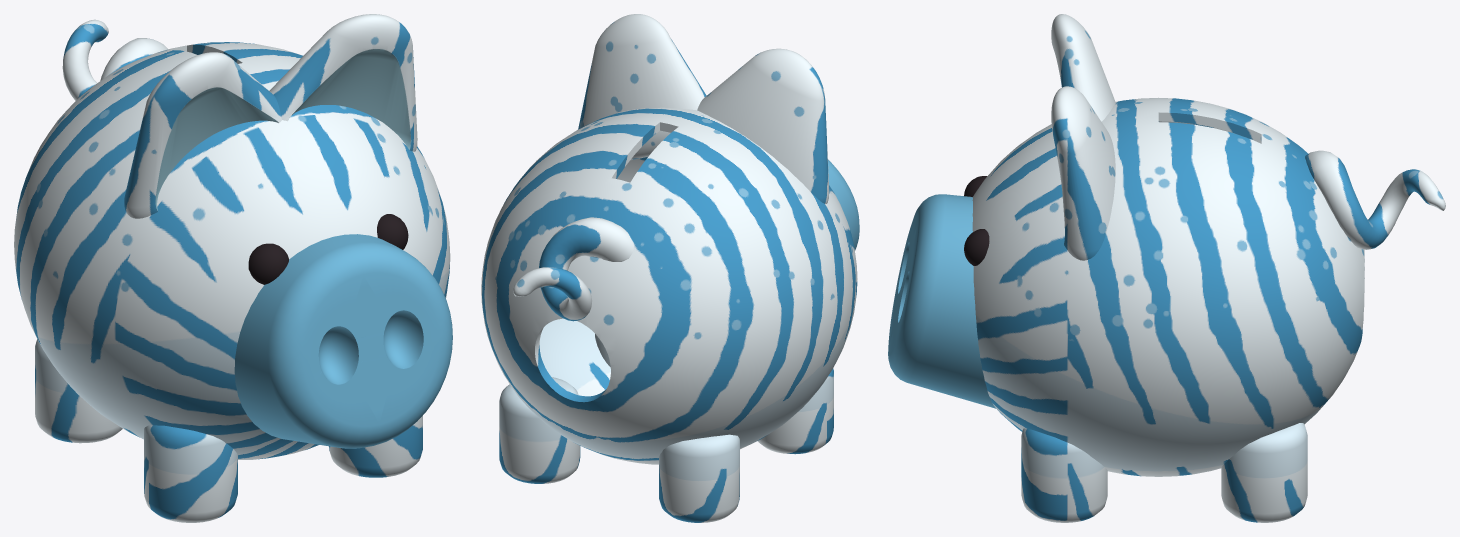
The model's file is glacier-complete.fbx.
The picture shows the model from 3 angles, left to right: view 1: azimuth 30°, elevation 25°; view 2: azimuth 150°, elevation 25°; view 3: azimuth 270°, elevation 25°; orthographic projection. The views are drawn at different scales.
Parts seen in each view (by area): view 1: Body, Snout, Ears, Legs, Tail, Eyes; view 2: Body, Ears, Legs, Tail, Snout; view 3: Body, Snout, Legs, Ears, Tail, Eyes.
Part boxes in pixels (bbox=[...]): Body: bbox=[14, 42, 450, 459]; Snout: bbox=[234, 234, 452, 448]; Ears: bbox=[124, 14, 417, 218]; Legs: bbox=[35, 339, 422, 522]; Tail: bbox=[62, 19, 167, 100]; Eyes: bbox=[248, 214, 408, 284]; Body: bbox=[481, 107, 857, 464]; Ears: bbox=[578, 14, 829, 203]; Legs: bbox=[499, 334, 833, 522]; Tail: bbox=[513, 217, 634, 321]; Snout: bbox=[828, 159, 859, 250]; Body: bbox=[972, 97, 1364, 476]; Snout: bbox=[888, 194, 996, 408]; Legs: bbox=[1021, 423, 1307, 522]; Ears: bbox=[1051, 14, 1115, 260]; Tail: bbox=[1305, 150, 1445, 249]; Eyes: bbox=[964, 176, 989, 265].
Bounding box in the file's own units: 1200 × 1397 × 1708.
3 materials, 2 textured.
